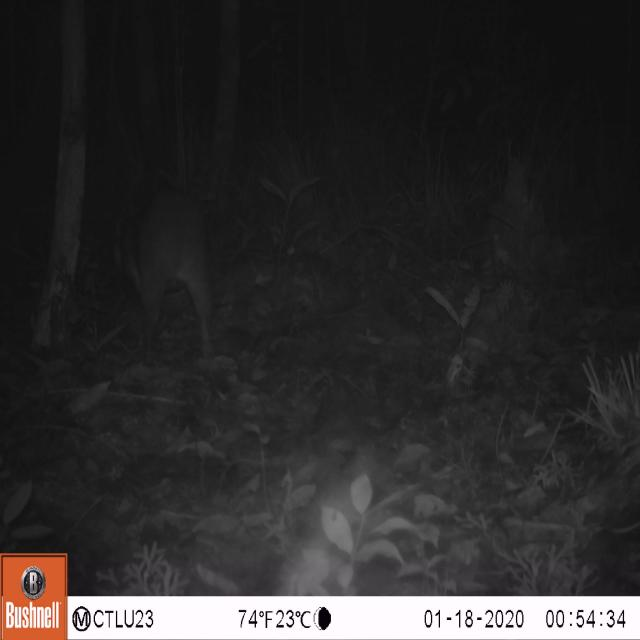Collared Peccary: (109, 151, 243, 364)
